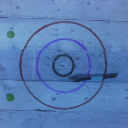Axe Tip: (68, 76, 78, 78)
